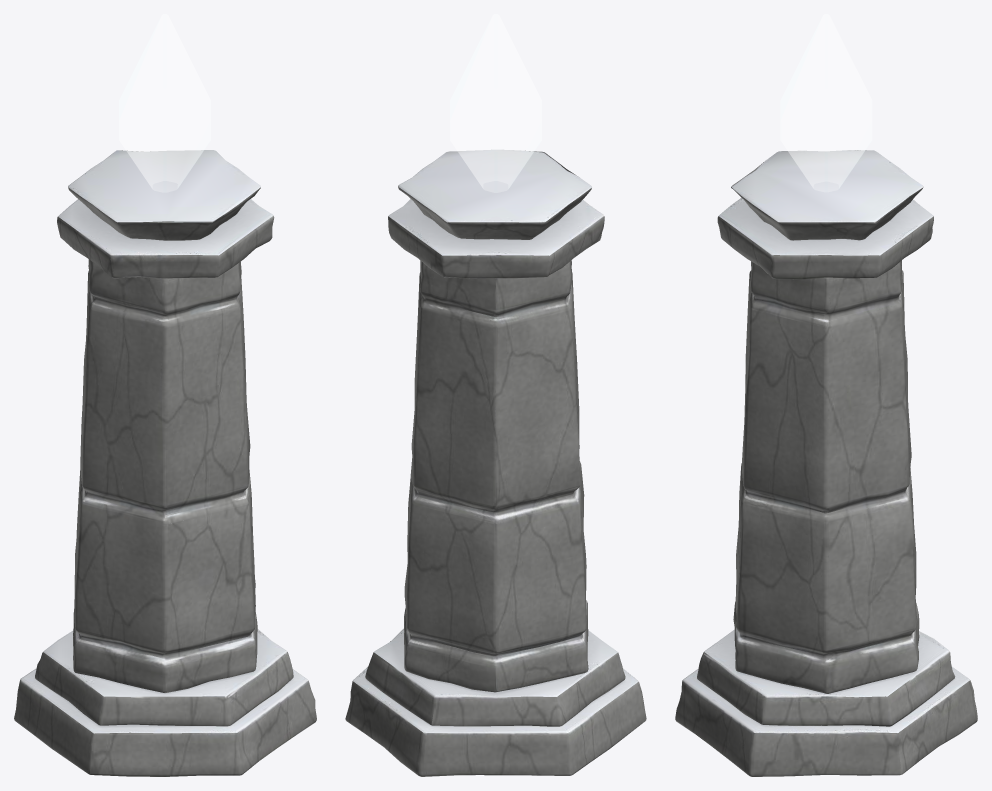
Rendered from frost_pillar.glb.
The picture shows the model from 3 angles, left to right: view 1: azimuth 30°, elevation 25°; view 2: azimuth 150°, elevation 25°; view 3: azimuth 270°, elevation 25°; orthographic projection.
Parts seen in each view (by area): view 1: pillar, pillar_crystal; view 2: pillar, pillar_crystal; view 3: pillar, pillar_crystal.
Boxes of the visible parts, x1,y1,x2,y2 form: pillar: [14, 150, 316, 776]; pillar_crystal: [119, 14, 210, 192]; pillar: [345, 149, 646, 776]; pillar_crystal: [450, 14, 541, 192]; pillar: [675, 150, 977, 776]; pillar_crystal: [780, 14, 871, 191].
Bounding box in the file's own units: 1.49 × 4.42 × 1.71.
Materials: 2 (1 with a texture image).
